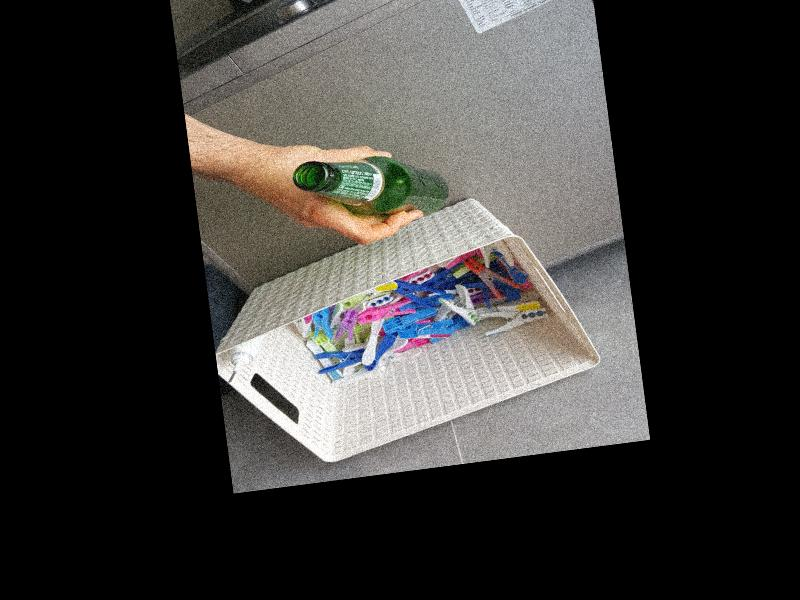Beer: (291, 144, 450, 234)
